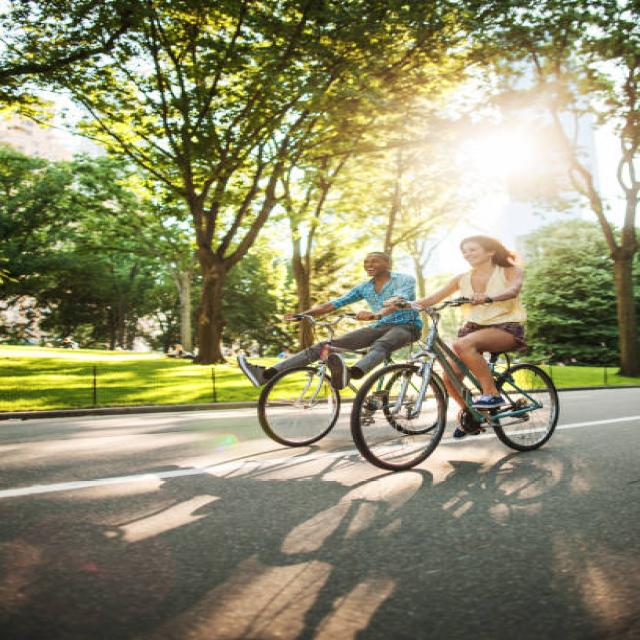bicycle: (351, 235, 559, 469), (238, 252, 422, 446)
